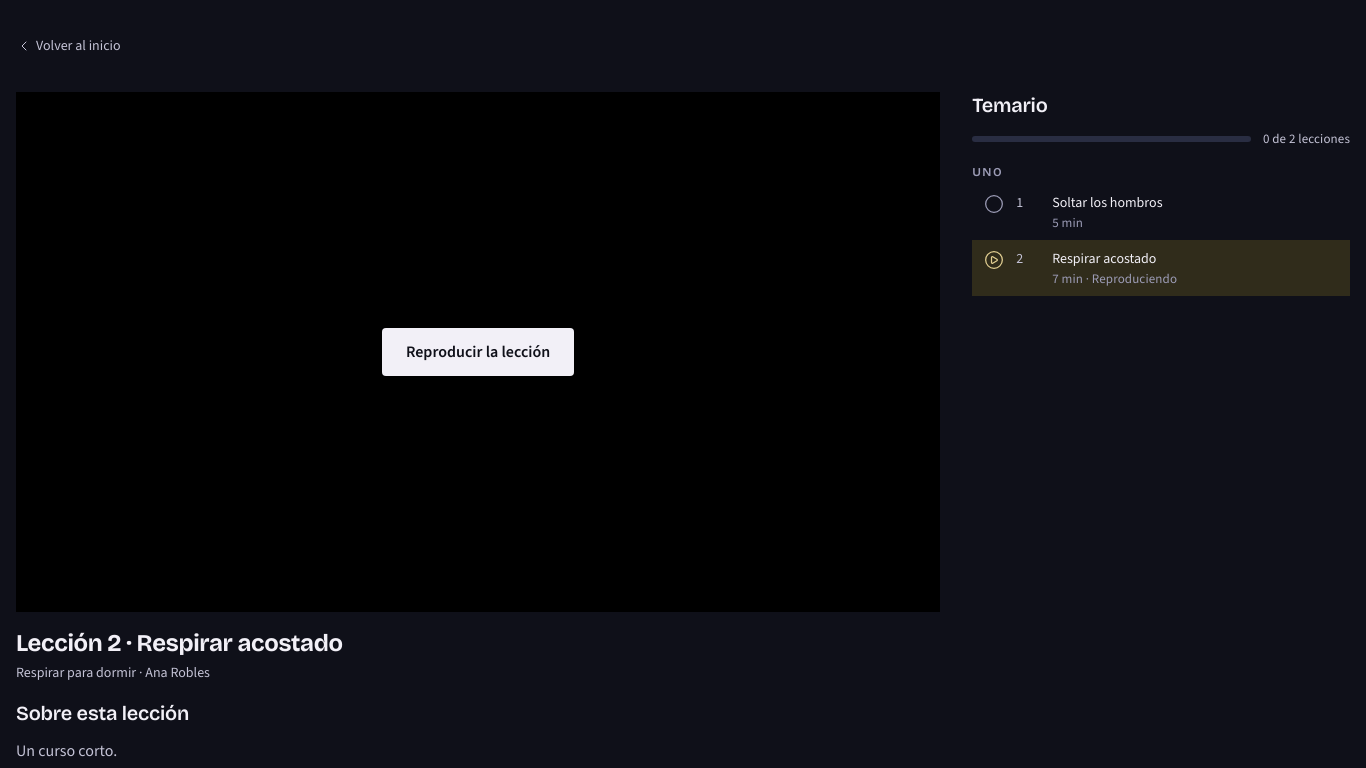
Scenario: el lugar del reproductor › si el acceso se pierde al reproducir, PA-33 en el lugar del reproductor
The width and height of the screenshot is (1366, 768).
Click the button "Reproducir la lección": (478, 352) x1=382 y1=328 x2=574 y2=376
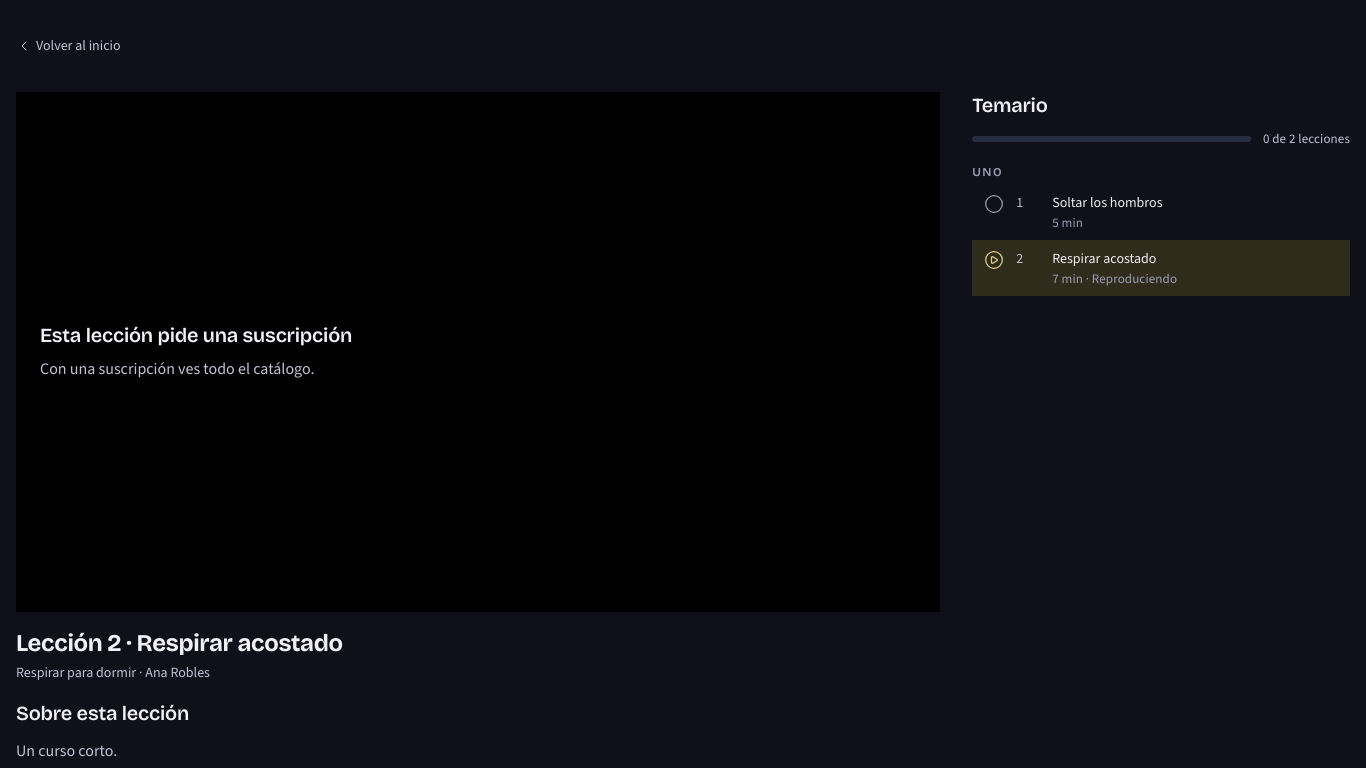
Now the heading "Esta lección pide una suscripción" is shown, box x1=40 y1=323 x2=352 y2=347
